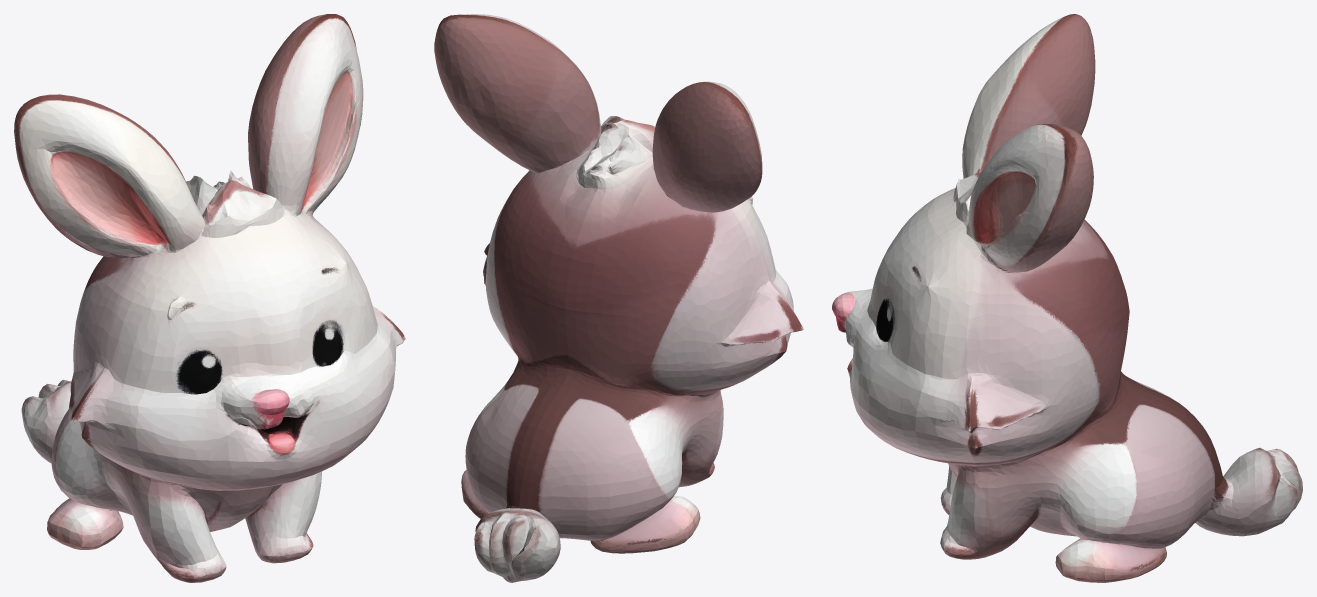
Rendered from rabbit.glb.
The picture shows the model from 3 angles, left to right: view 1: azimuth 30°, elevation 25°; view 2: azimuth 150°, elevation 25°; view 3: azimuth 270°, elevation 25°; orthographic projection. The views are drawn at different scales.
Parts seen in each view (by area): view 1: world; view 2: world; view 3: world.
Boxes of the visible parts, x1=… form: world: x1=14, y1=14, x2=405, y2=582; world: x1=434, y1=14, x2=803, y2=582; world: x1=832, y1=14, x2=1302, y2=582.
Bounding box in the file's own units: 0.7329 × 0.9993 × 0.9145.
Materials: 1 (1 with a texture image).
